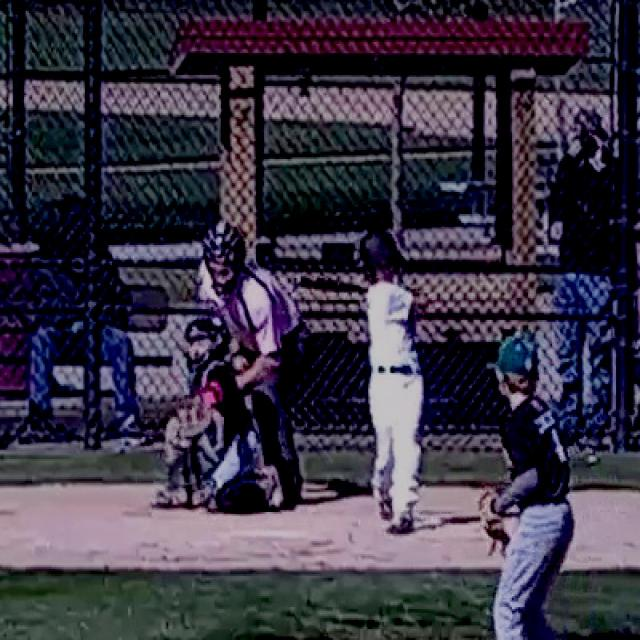baseball: (180, 439, 192, 447)
